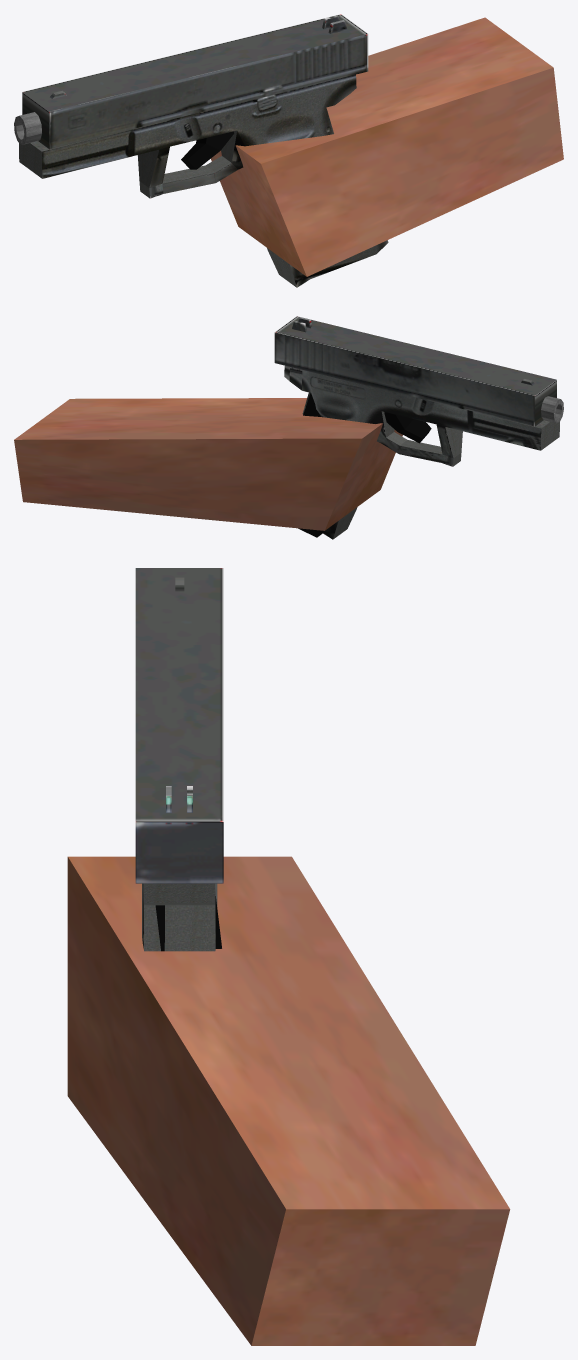
The model's file is pistol_000048.obj.
3 views of the same model, one above another, from view 1: azimuth 30°, elevation 25°; view 2: azimuth 150°, elevation 25°; view 3: azimuth 270°, elevation 25° (orthographic). The views are drawn at different scales.
Visible parts, largest first — view 1: Cube, Cube.001, Cube.003; view 2: Cube, Cube.001, Cube.003, Cube.002; view 3: Cube, Cube.001.
Boxes of the visible parts, x1=… form: Cube: x1=14, y1=17, x2=563, y2=287; Cube.001: x1=22, y1=14, x2=368, y2=149; Cube.003: x1=181, y1=131, x2=233, y2=169; Cube: x1=14, y1=365, x2=563, y2=539; Cube.001: x1=274, y1=316, x2=556, y2=426; Cube.003: x1=384, y1=412, x2=431, y2=443; Cube.002: x1=298, y1=392, x2=323, y2=537; Cube: x1=67, y1=856, x2=510, y2=1345; Cube.001: x1=135, y1=568, x2=223, y2=883.
Bounding box in the file's own units: 1.74 × 0.735 × 0.7214.
